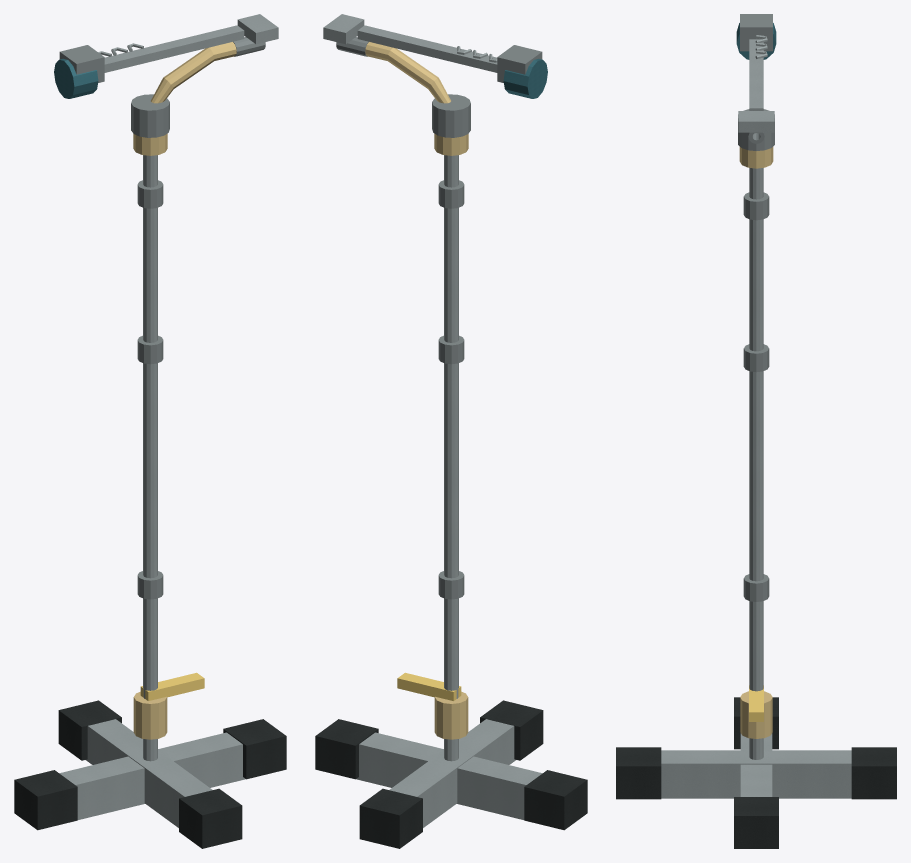
Rendered from PROJECT_Z_GIK01_Sprinkler_Head.glb.
3 renders of one model, left to right at view 1: azimuth 30°, elevation 25°; view 2: azimuth 150°, elevation 25°; view 3: azimuth 270°, elevation 25°, orthographic. The views are drawn at different scales.
Parts seen in each view (by area): view 1: SM_Sprinkler_Stand_CrossFeet, SM_Sprinkler_Foot_EndCaps, SM_Sprinkler_Supply_Riser_16mm, SM_Sprinkler_Head_ImpactArm__MAT01, SM_Sprinkler_HeightAdjust_Clamps, SM_Sprinkler_Head_FlowTube, SM_Sprinkler_Head_Bearing, SM_Sprinkler_Riser_QuickConnect, SM_Sprinkler_Head_Counterweight, SM_Sprinkler_Isolation_Valve_Handle, SM_Sprinkler_Head_ImpactArm__MAT02, SM_Sprinkler_Head_Deflector (+1 smaller); view 2: SM_Sprinkler_Stand_CrossFeet, SM_Sprinkler_Foot_EndCaps, SM_Sprinkler_Supply_Riser_16mm, SM_Sprinkler_Head_ImpactArm__MAT01, SM_Sprinkler_HeightAdjust_Clamps, SM_Sprinkler_Head_FlowTube, SM_Sprinkler_Head_Bearing, SM_Sprinkler_Riser_QuickConnect, SM_Sprinkler_Head_Counterweight, SM_Sprinkler_Isolation_Valve_Handle, SM_Sprinkler_Head_ImpactArm__MAT02, SM_Sprinkler_Head_Deflector (+1 smaller); view 3: SM_Sprinkler_Stand_CrossFeet, SM_Sprinkler_Foot_EndCaps, SM_Sprinkler_Supply_Riser_16mm, SM_Sprinkler_HeightAdjust_Clamps, SM_Sprinkler_Riser_QuickConnect, SM_Sprinkler_Head_ImpactArm__MAT02, SM_Sprinkler_Head_ImpactArm__MAT01, SM_Sprinkler_Head_Deflector, SM_Sprinkler_Riser_Cap, SM_Sprinkler_Head_Bearing.
Part boxes in pixels (<box>): SM_Sprinkler_Stand_CrossFeet: <box>59,719,245,827</box>; SM_Sprinkler_Foot_EndCaps: <box>14,700,286,848</box>; SM_Sprinkler_Supply_Riser_16mm: <box>143,155,157,761</box>; SM_Sprinkler_Head_ImpactArm__MAT01: <box>104,25,244,72</box>; SM_Sprinkler_HeightAdjust_Clamps: <box>137,180,163,599</box>; SM_Sprinkler_Head_FlowTube: <box>151,42,236,103</box>; SM_Sprinkler_Head_Bearing: <box>131,94,169,137</box>; SM_Sprinkler_Riser_QuickConnect: <box>133,691,167,739</box>; SM_Sprinkler_Head_Counterweight: <box>54,58,98,98</box>; SM_Sprinkler_Isolation_Valve_Handle: <box>140,672,204,700</box>; SM_Sprinkler_Head_ImpactArm__MAT02: <box>59,45,104,82</box>; SM_Sprinkler_Head_Deflector: <box>237,14,278,44</box>; SM_Sprinkler_Stand_CrossFeet: <box>356,719,542,827</box>; SM_Sprinkler_Foot_EndCaps: <box>315,700,587,848</box>; SM_Sprinkler_Supply_Riser_16mm: <box>444,155,458,761</box>; SM_Sprinkler_Head_ImpactArm__MAT01: <box>357,25,497,72</box>; SM_Sprinkler_HeightAdjust_Clamps: <box>438,180,464,599</box>; SM_Sprinkler_Head_FlowTube: <box>365,42,450,103</box>; SM_Sprinkler_Head_Bearing: <box>432,94,470,137</box>; SM_Sprinkler_Riser_QuickConnect: <box>434,691,468,739</box>; SM_Sprinkler_Head_Counterweight: <box>503,58,547,98</box>; SM_Sprinkler_Isolation_Valve_Handle: <box>397,672,461,700</box>; SM_Sprinkler_Head_ImpactArm__MAT02: <box>497,45,542,82</box>; SM_Sprinkler_Head_Deflector: <box>323,14,364,44</box>; SM_Sprinkler_Stand_CrossFeet: <box>661,733,851,798</box>; SM_Sprinkler_Foot_EndCaps: <box>616,697,896,848</box>; SM_Sprinkler_Supply_Riser_16mm: <box>749,168,763,759</box>; SM_Sprinkler_HeightAdjust_Clamps: <box>743,192,769,601</box>; SM_Sprinkler_Riser_QuickConnect: <box>740,691,772,738</box>; SM_Sprinkler_Head_ImpactArm__MAT02: <box>740,14,772,51</box>; SM_Sprinkler_Head_ImpactArm__MAT01: <box>749,39,763,110</box>; SM_Sprinkler_Head_Deflector: <box>738,111,774,132</box>; SM_Sprinkler_Riser_Cap: <box>739,147,773,168</box>; SM_Sprinkler_Head_Bearing: <box>738,109,774,150</box>.
Size of the model in its own units: 0.62 by 1.8 by 0.62.
6 materials, 3 textured.
